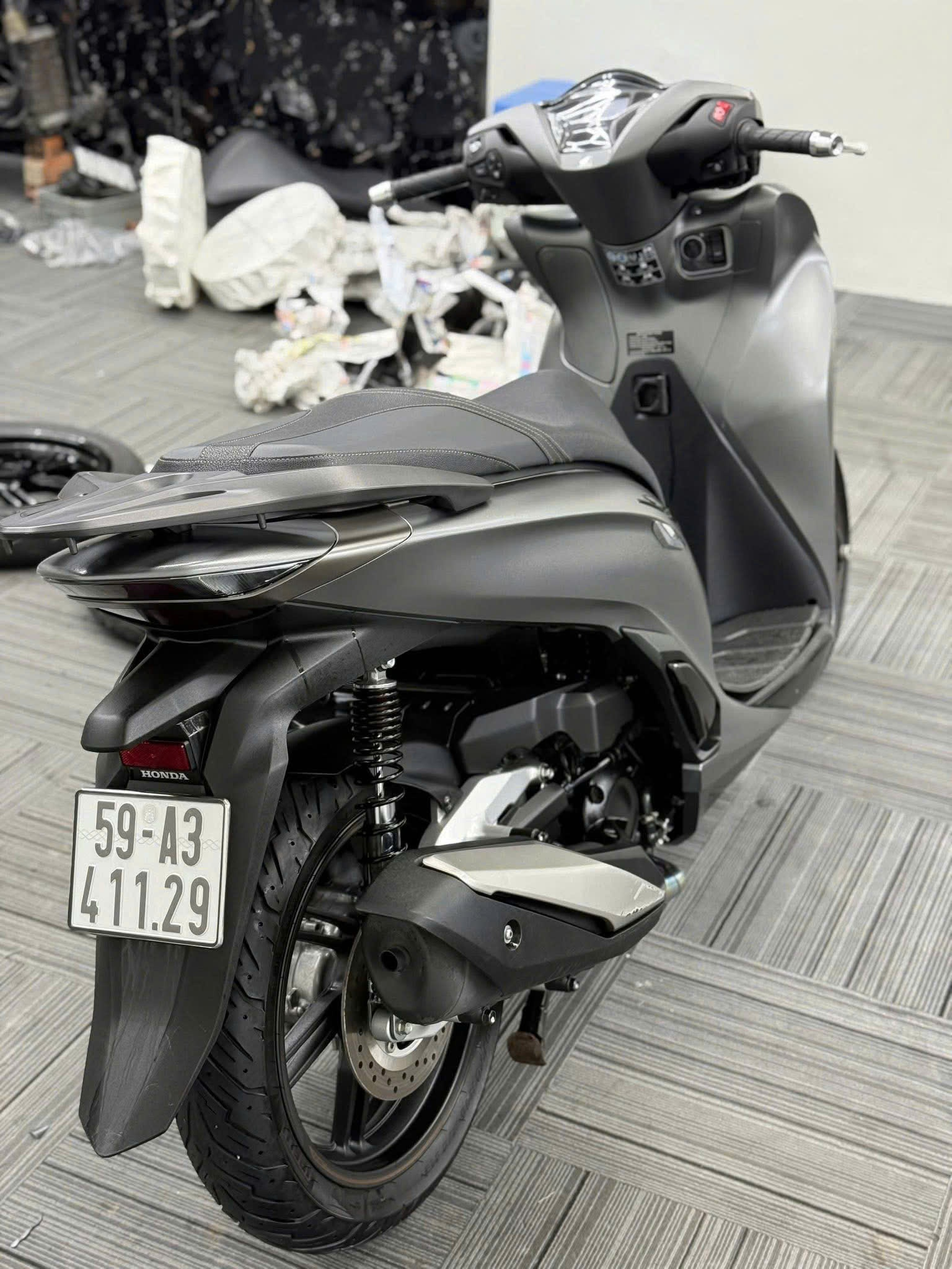Bien-so: (46, 767, 222, 936)
